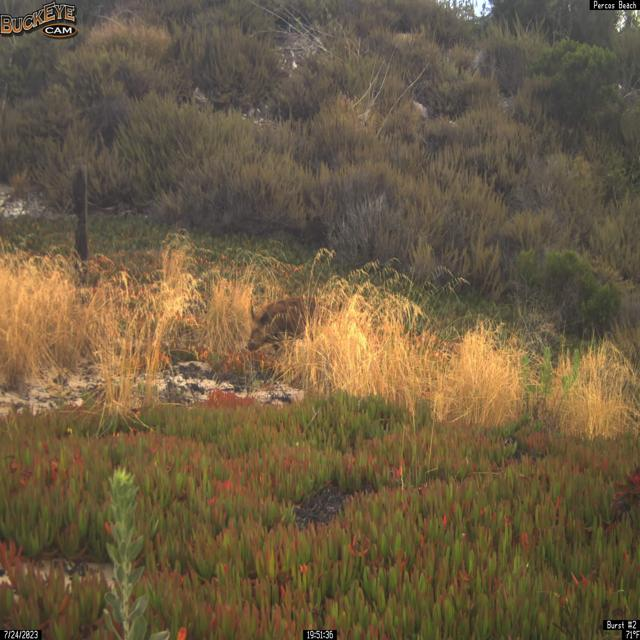pig: (245, 294, 326, 354)
